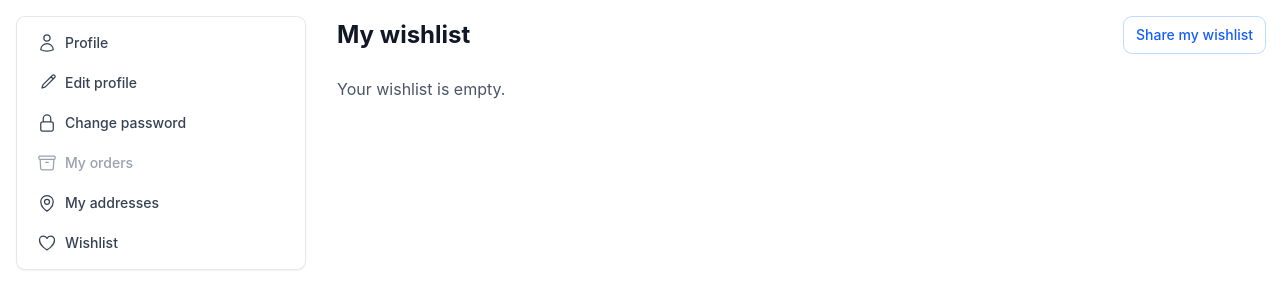
WishlistPage › copies the public share link to the clipboard
Click the button "Share my wishlist".
click(1194, 35)  # box left=1124, top=17, right=1265, bottom=53
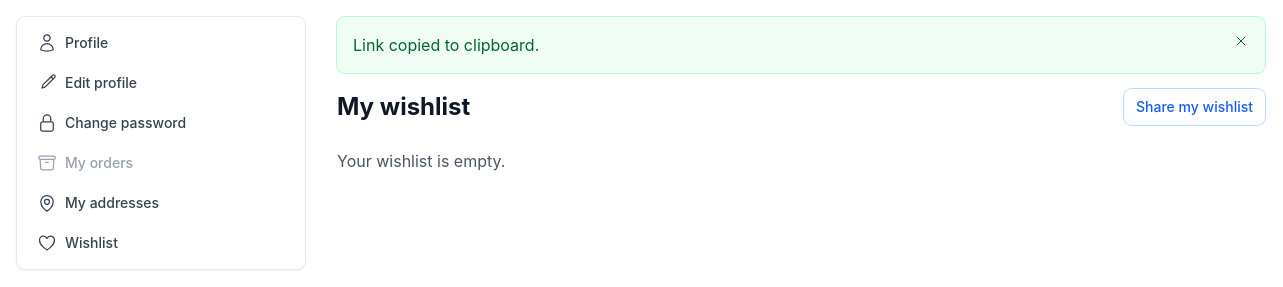
expect the text "Link copied to clipboard." is shown: met, box left=353, top=35, right=539, bottom=55
